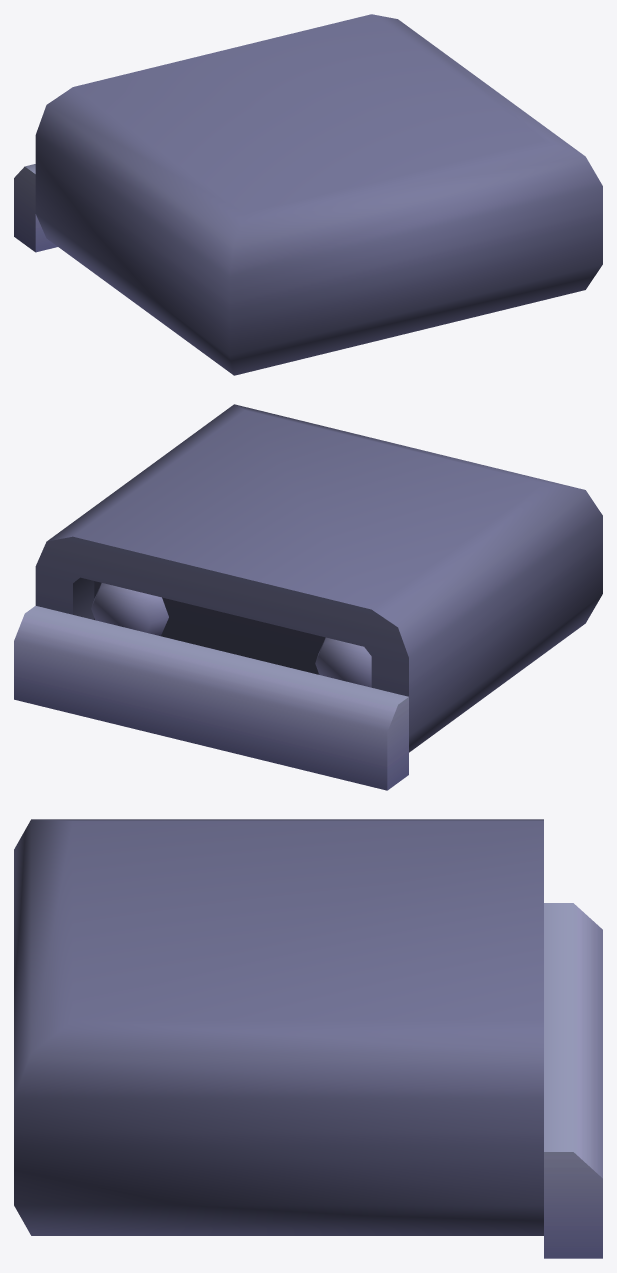
The model's file is kenney-conveyor-conveyor-sides-junction-t.glb.
The picture shows the model from 3 angles, top to bottom: view 1: azimuth 30°, elevation 25°; view 2: azimuth 150°, elevation 25°; view 3: azimuth 270°, elevation 25°; orthographic projection. The views are drawn at different scales.
Parts seen in each view (by area): view 1: conveyor-sides-junction-t; view 2: conveyor-sides-junction-t; view 3: conveyor-sides-junction-t.
Part boxes in pixels (x1,y1,x2,y2): conveyor-sides-junction-t: (14,14,602,375); conveyor-sides-junction-t: (14,404,602,790); conveyor-sides-junction-t: (14,819,602,1258).
Bounding box in the file's own units: 1 × 0.3999 × 1.
Materials: 1 (1 with a texture image).
